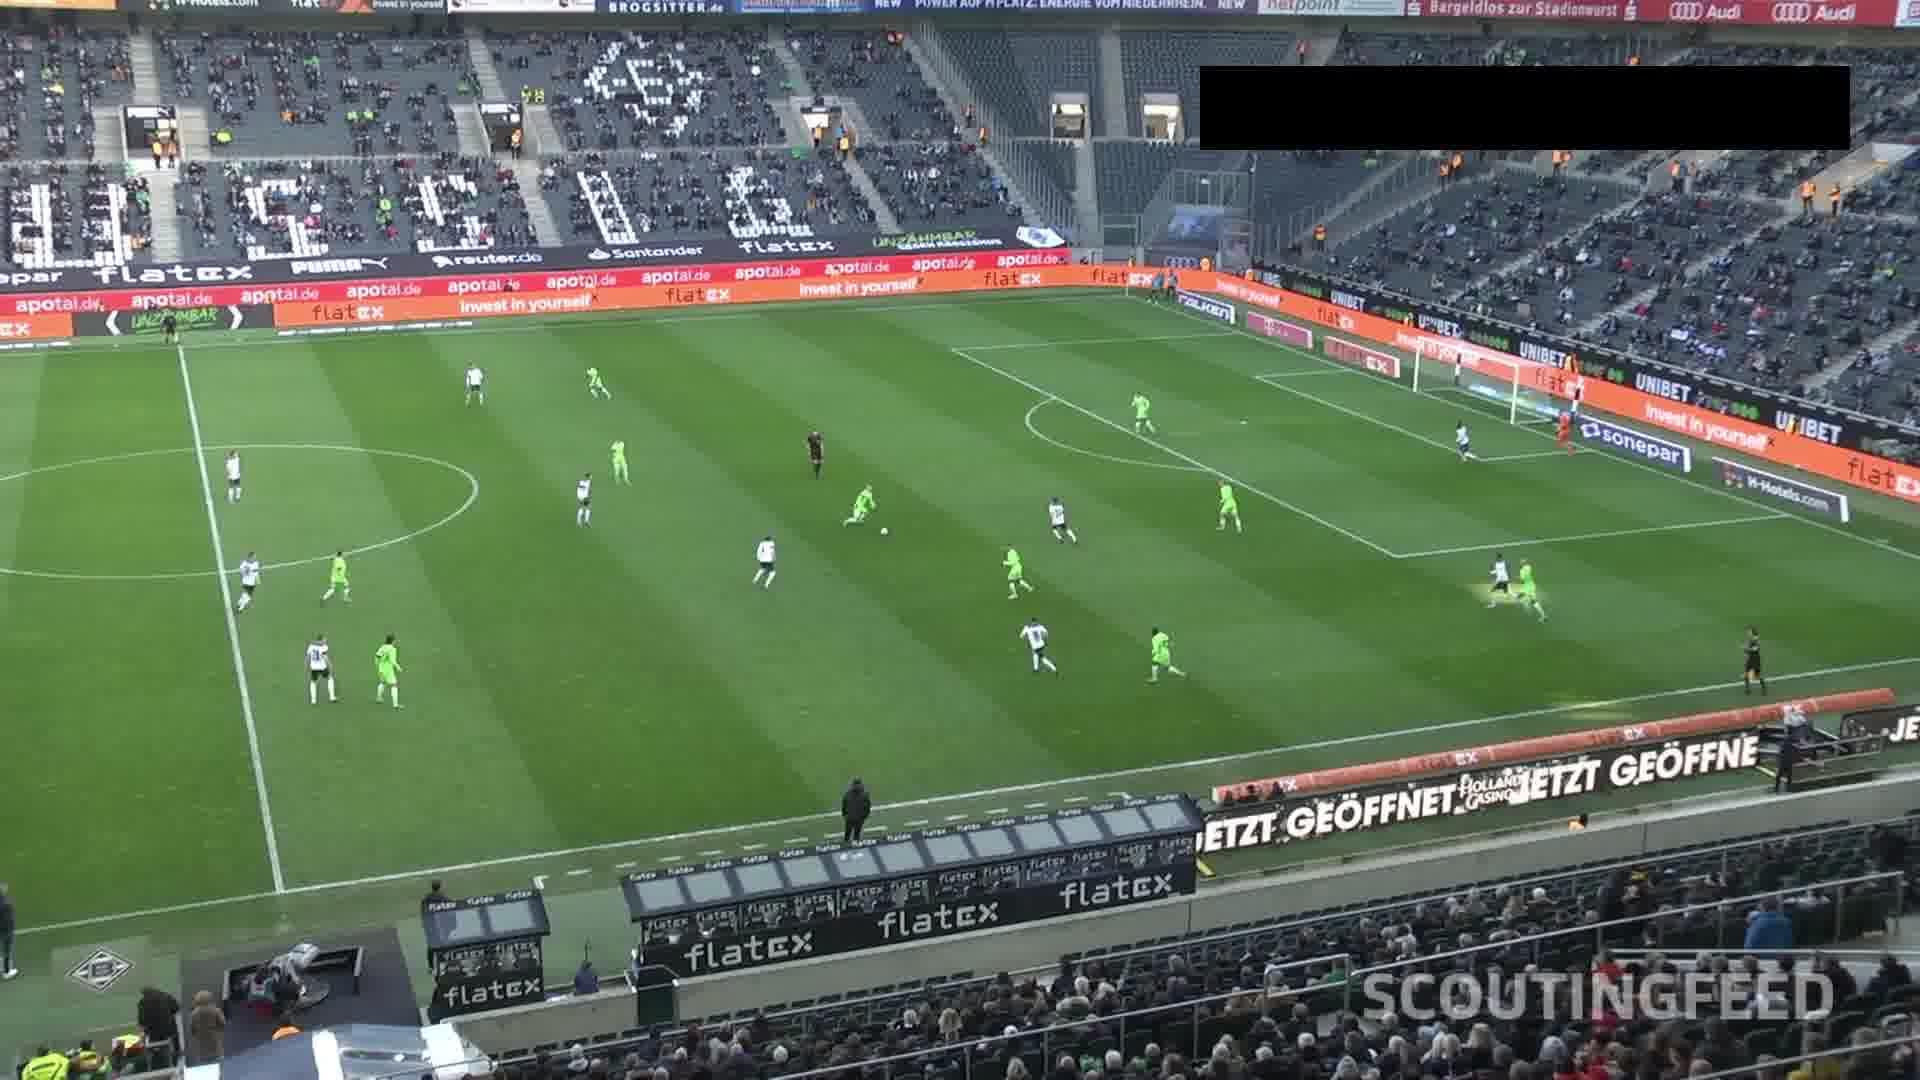football: (881, 526, 889, 537)
